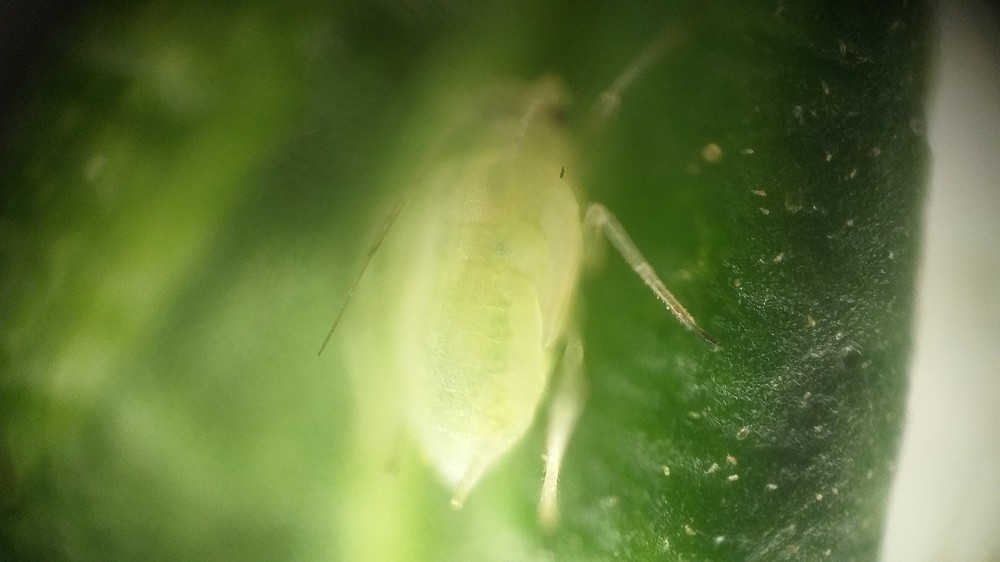Pulgon: (296, 26, 775, 560)
